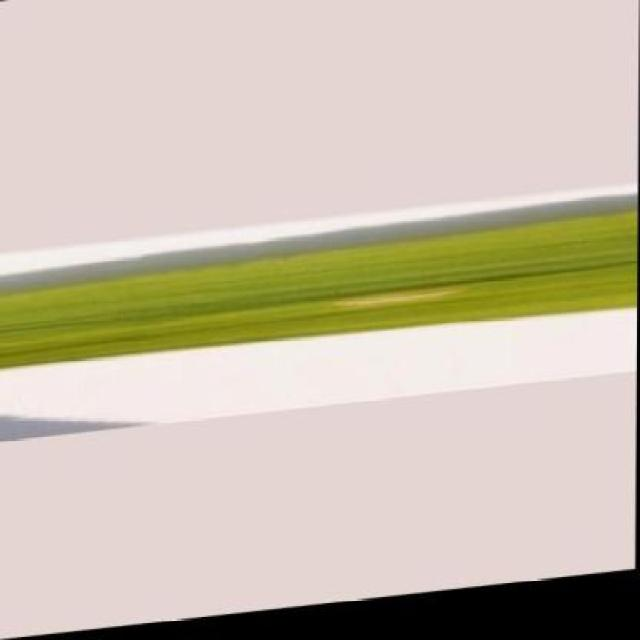Brown_Spot: (0, 219, 638, 379)
